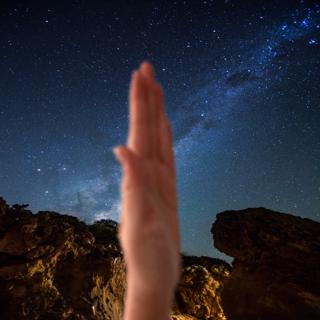Right: (100, 49, 192, 303)
